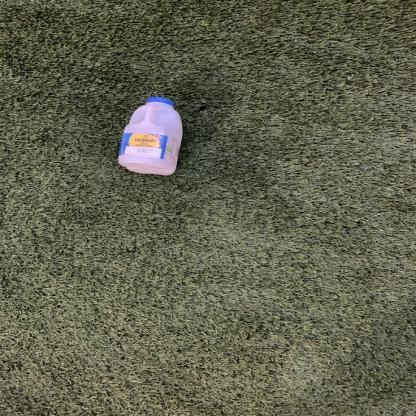trash: (117, 96, 185, 182)
